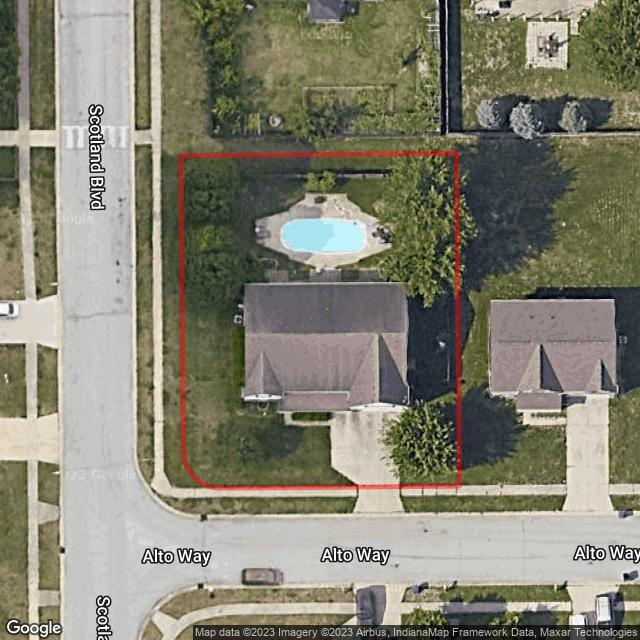Driveway: (284, 410, 405, 485)
Extra Driveway: (354, 489, 404, 512)
Extra Lawn: (180, 498, 356, 514), (399, 495, 461, 512), (180, 457, 205, 487)
Extra Sidewalk: (180, 488, 358, 498), (397, 488, 461, 496)
House: (242, 282, 410, 411)
Other: (255, 192, 391, 271), (310, 269, 341, 282), (265, 269, 288, 283), (359, 269, 383, 281)
